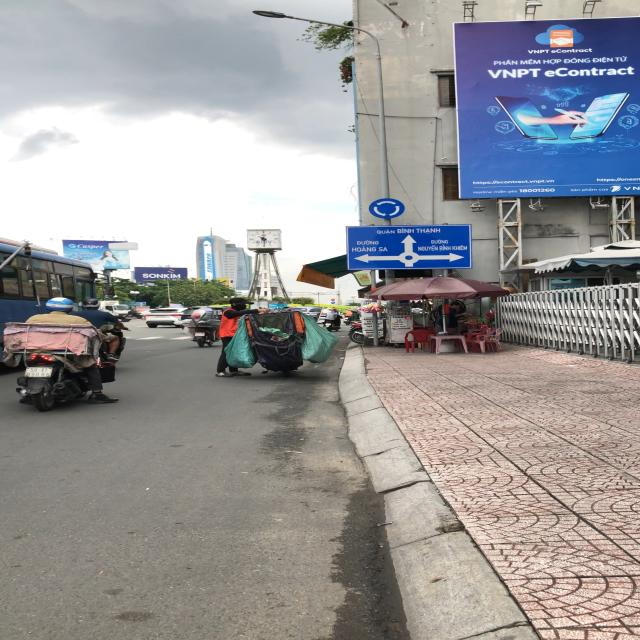Bien bao noi giao nhau chay theo vong xuyen: (367, 196, 407, 222)
